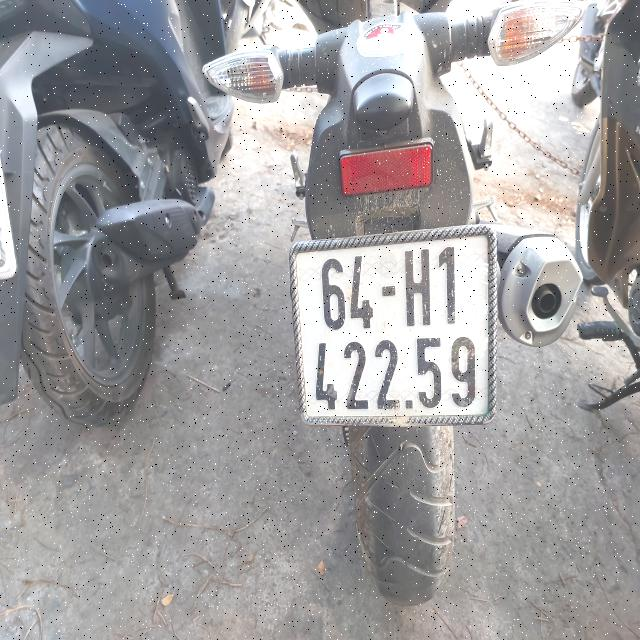1: (438, 245, 457, 324)
2: (343, 339, 369, 410), (374, 339, 400, 408)
4: (351, 254, 376, 332), (314, 342, 337, 410)
5: (414, 337, 442, 408)
6: (319, 258, 346, 330)
9: (451, 336, 476, 408)
H: (404, 250, 431, 326)
